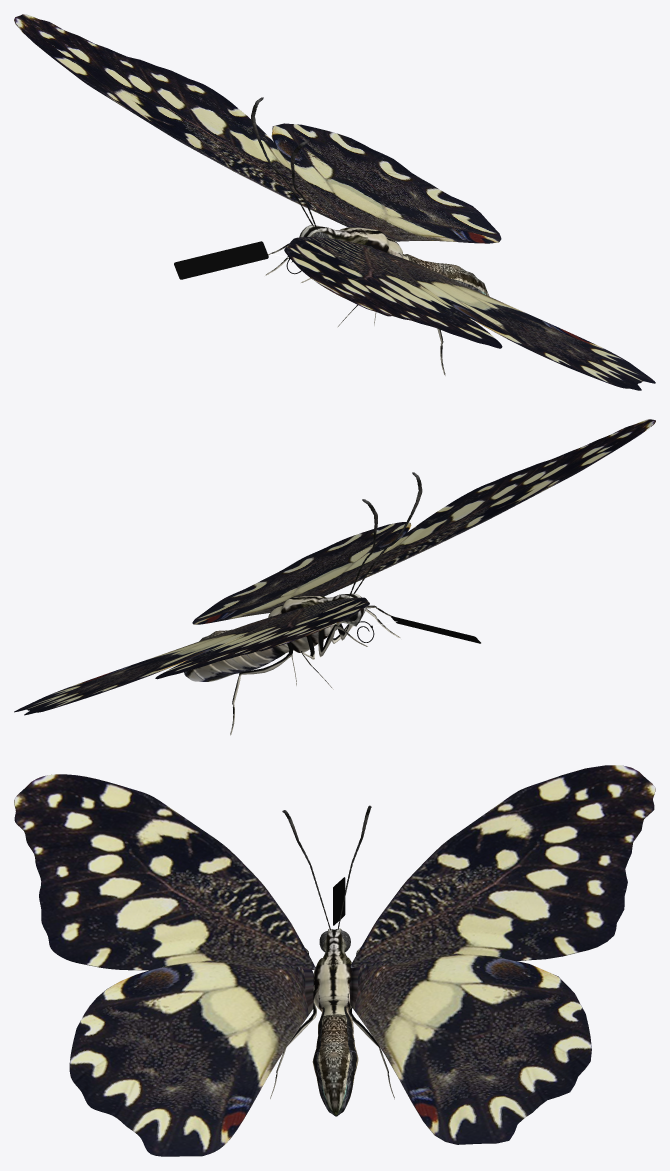
The model's file is Borboleta.gltf.
3 renders of one model, top to bottom at view 1: azimuth 30°, elevation 25°; view 2: azimuth 150°, elevation 25°; view 3: azimuth 270°, elevation 25°, orthographic. The views are drawn at different scales.
Parts seen in each view (by area): view 1: Butterfly, Plane.008; view 2: Butterfly, Plane.008; view 3: Butterfly.
Part boxes in pixels (<box>): Butterfly: <box>14,14,655,390</box>; Plane.008: <box>174,241,268,279</box>; Butterfly: <box>14,419,655,735</box>; Plane.008: <box>391,616,480,643</box>; Butterfly: <box>14,765,655,1156</box>.
Size of the model in its own units: 4.57 by 2.85 by 6.93.
4 materials, 1 textured.
